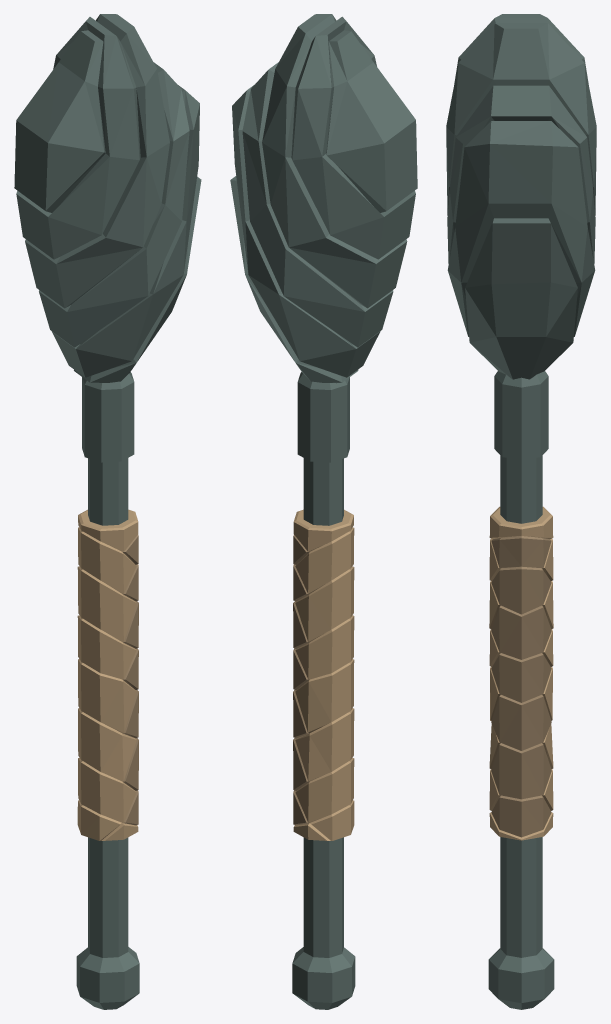
File: _hammer_06.fbx
The picture shows the model from 3 angles, left to right: view 1: azimuth 30°, elevation 25°; view 2: azimuth 150°, elevation 25°; view 3: azimuth 270°, elevation 25°; orthographic projection.
Parts seen in each view (by area): view 1: hammer_06; view 2: hammer_06; view 3: hammer_06.
Boxes of the visible parts, <box> form: hammer_06: <box>14,14,201,1009</box>; hammer_06: <box>230,14,417,1009</box>; hammer_06: <box>446,14,596,1009</box>.
Size of the model in its own units: 14.17 by 84.34 by 11.71.
